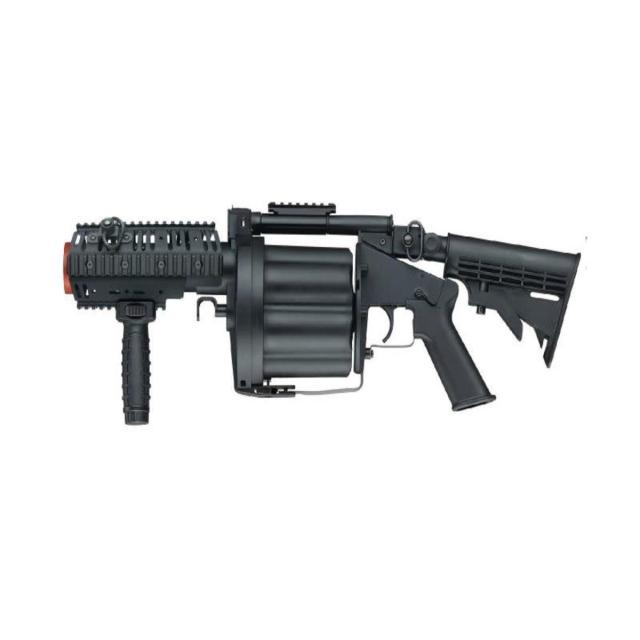weapon: (52, 187, 590, 427)
